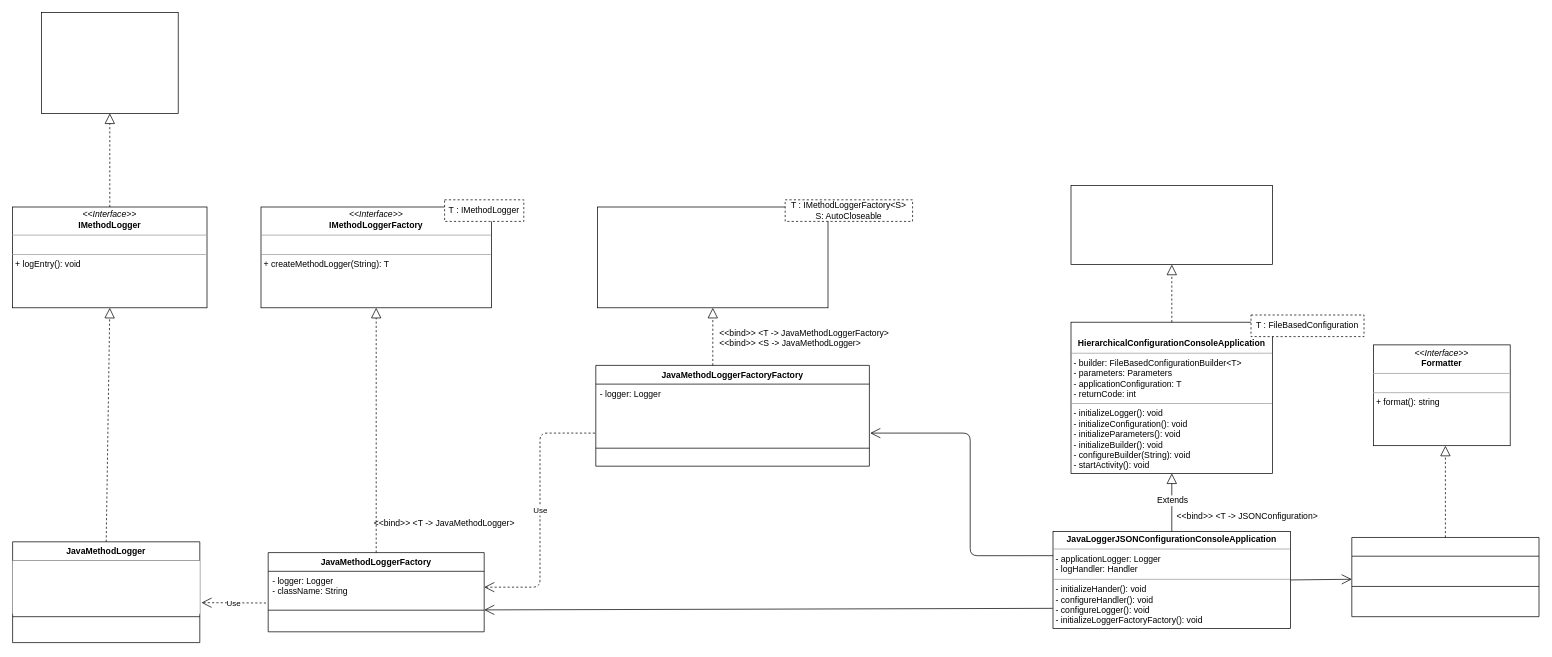
This 1552x657 diagram has some shape labels left out. The centre of each missing label's shape, as x and y in pixels:
"- javaMethodLogger: Logger - className: String - methodName: String" belongs at point 105,586.
"<<Interface>> AutoCloseable + close(): void" belongs at point 109,62.
"<<Interface>> IConsoleApplication + run(String[]): int" belongs at point 1171,225.
"<<Interface>> IMethodLoggerFactoryFactory + createMethodLoggerFactory(String): T" belongs at point 712,257.
"BaseFormatter" belongs at point 1445,577.
